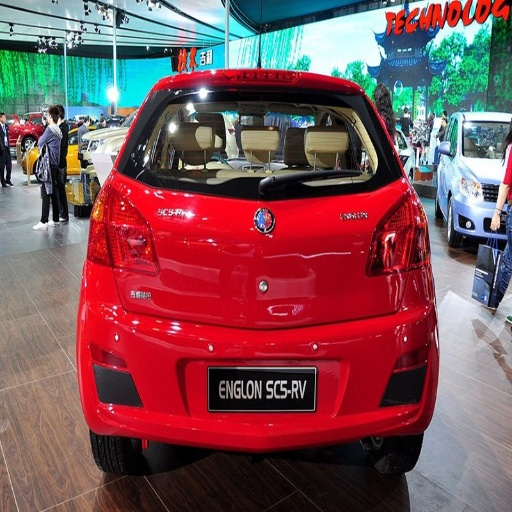back_bumper: (87, 260, 329, 442)
back_right_light: (378, 195, 429, 276)
trunk: (113, 179, 408, 329)
